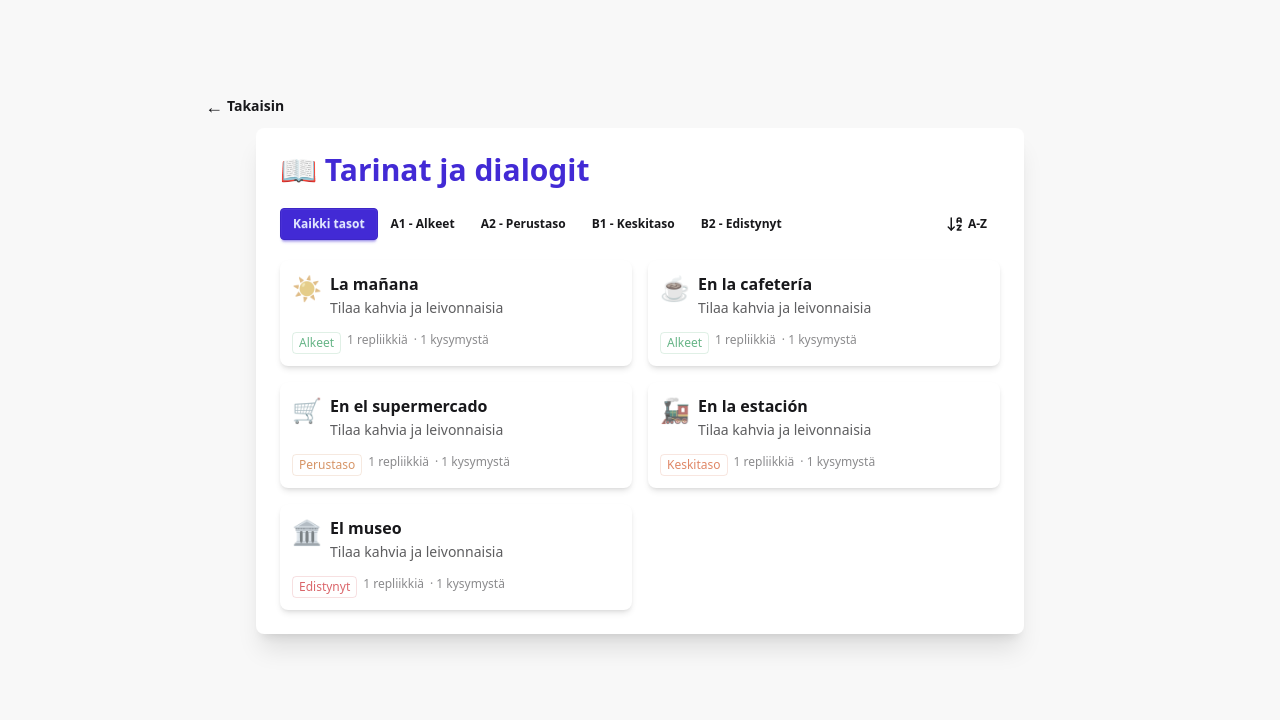
Test: Tarinat Page › opens story when card is clicked
Expected: the heading "En la cafetería" is shown, [698,273,812,295]
Click the button that starts with "En la cafetería": (824, 313) [648,260,1000,366]
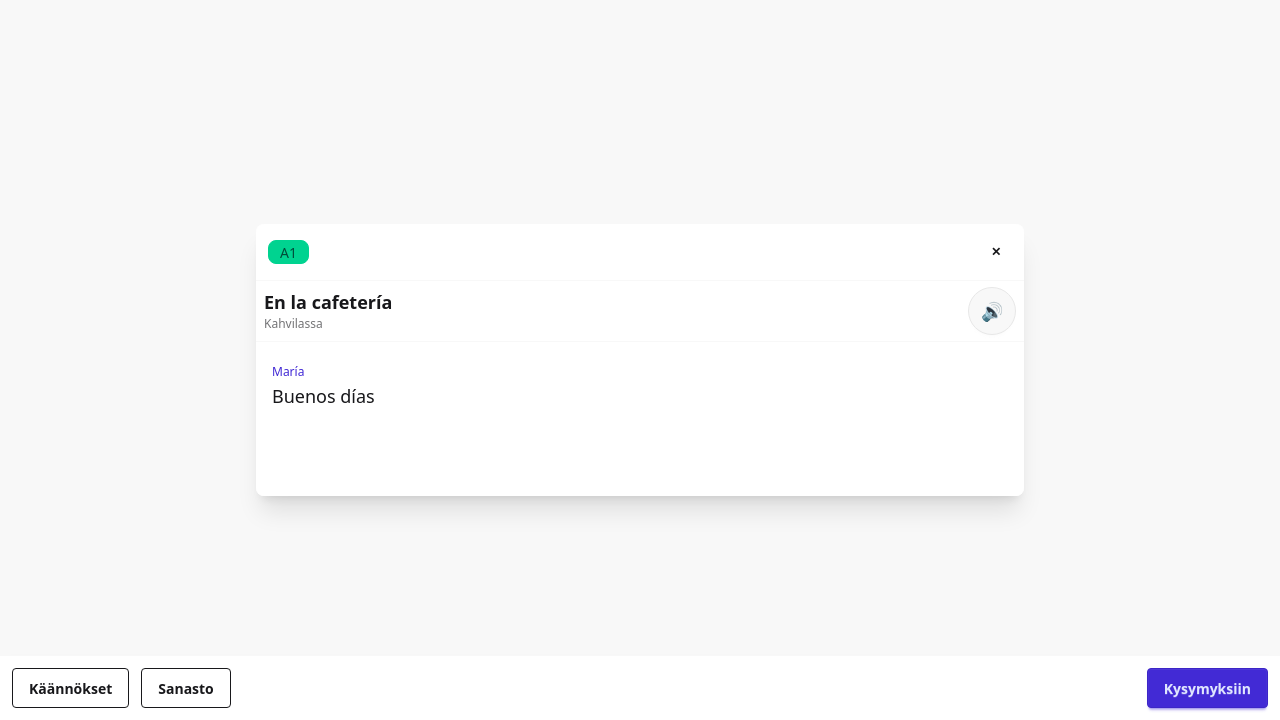
Expected: the button titled "Lopeta" is shown, [980,236,1012,268]
